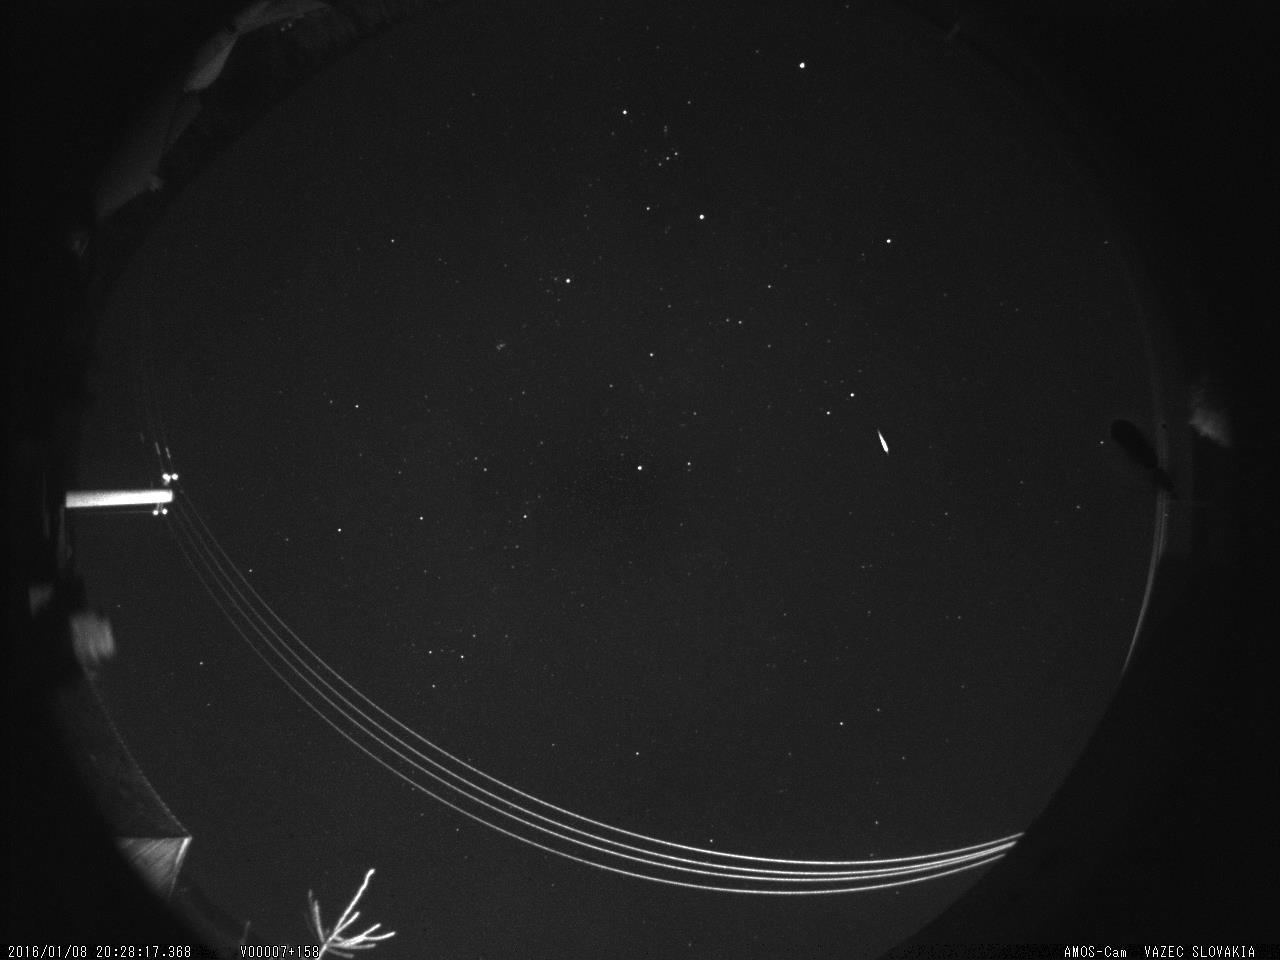Meteor: (873, 424, 894, 461)
